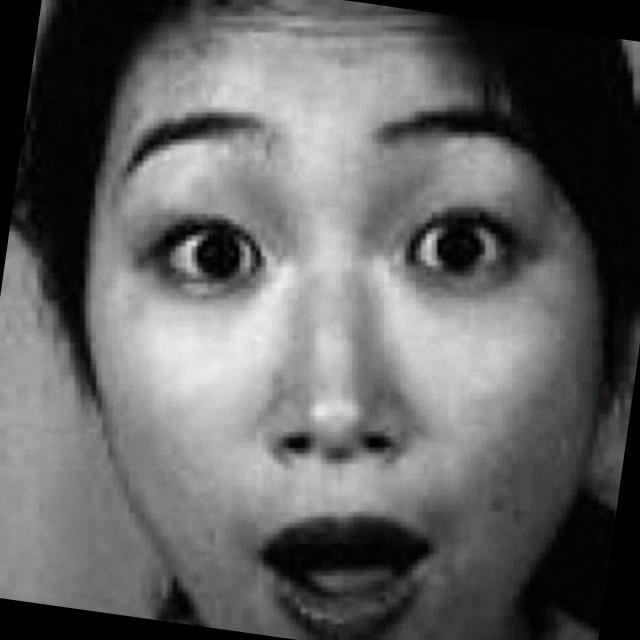surprise: (30, 9, 603, 640)
